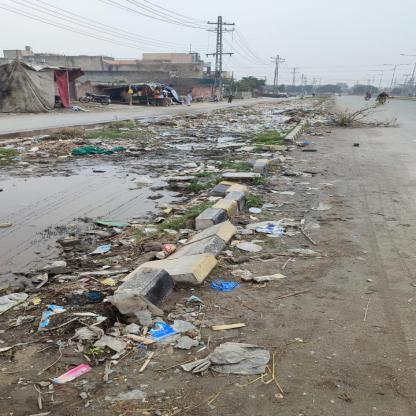Garbage: (107, 104, 357, 310)
